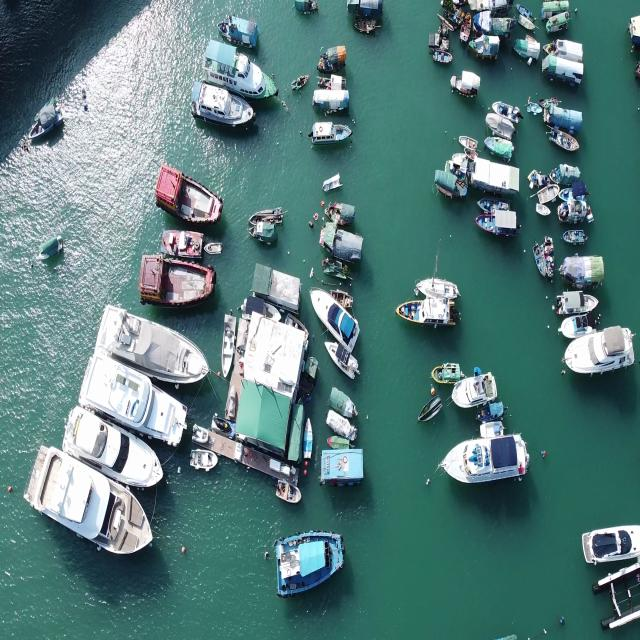ship: (30, 438, 150, 561), (82, 346, 185, 437), (66, 405, 162, 495), (98, 305, 200, 383), (270, 531, 352, 589), (158, 162, 227, 229), (138, 250, 214, 304), (439, 437, 532, 481), (562, 324, 636, 376), (203, 39, 272, 93), (190, 77, 252, 134), (580, 526, 640, 560)
